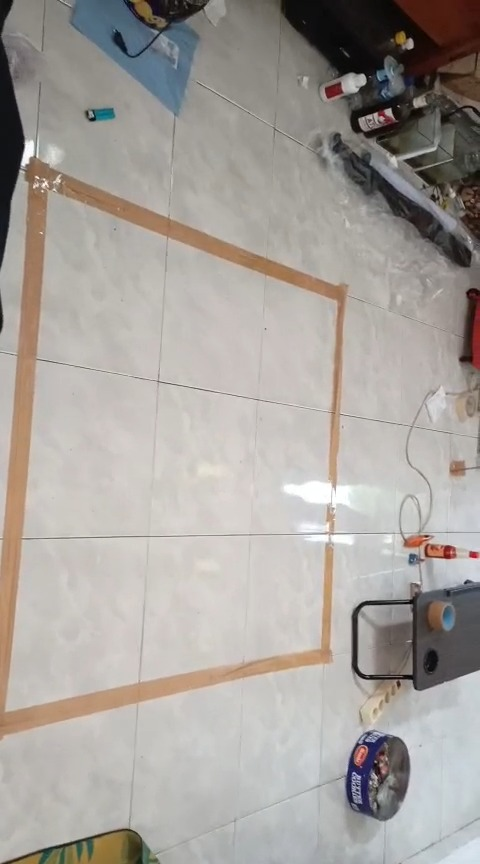floor marking: (0, 158, 345, 739)
